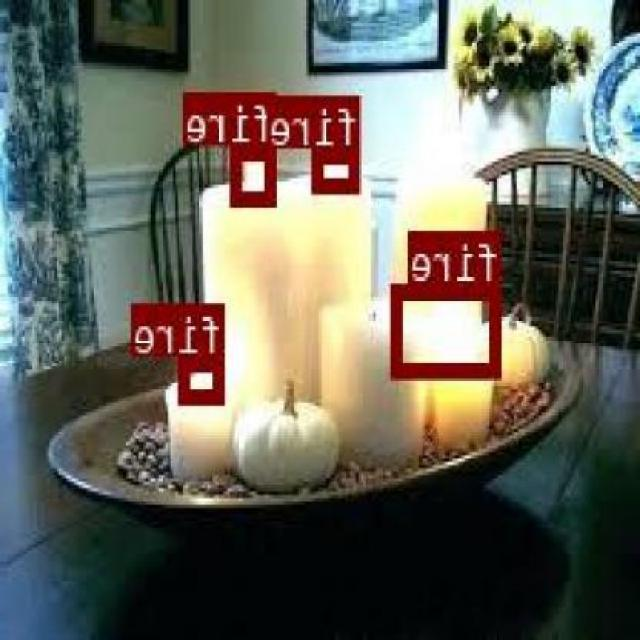fire: (394, 282, 502, 376), (233, 142, 278, 204), (182, 354, 226, 402), (314, 146, 362, 188)
